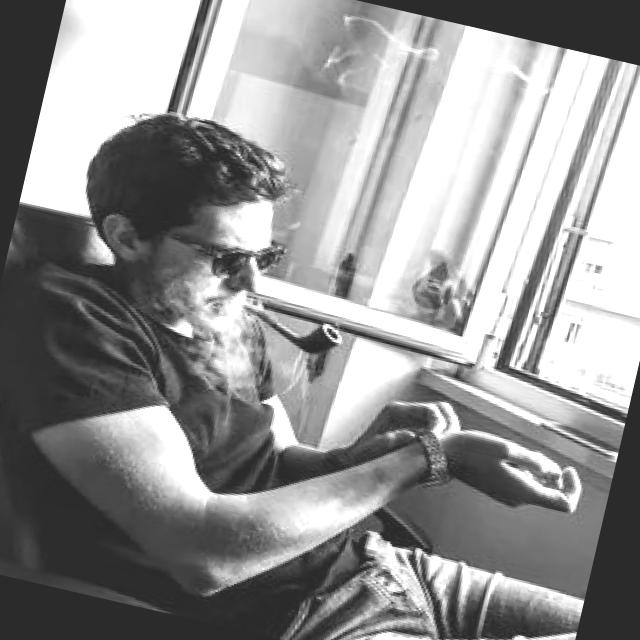smoke: (205, 296, 348, 366)
